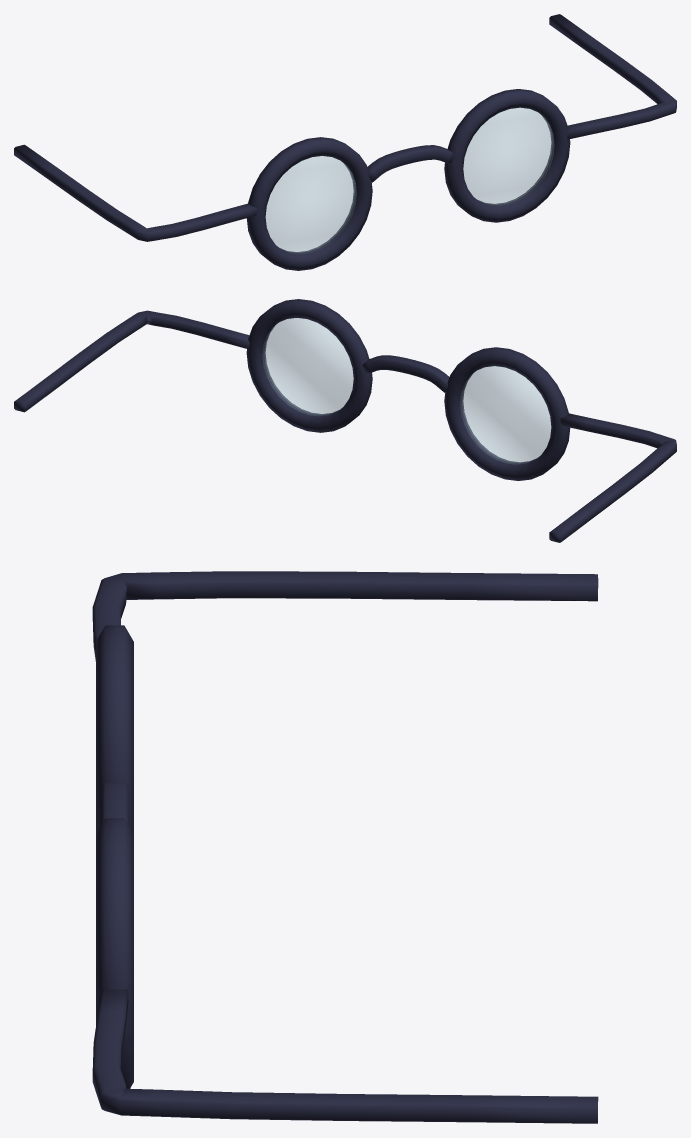
Rendered from round_glasses-pig.glb.
3 views of the same model, one above another, from view 1: azimuth 30°, elevation 25°; view 2: azimuth 150°, elevation 25°; view 3: azimuth 270°, elevation 25° (orthographic). The views are drawn at different scales.
Parts seen in each view (by area): view 1: lens.001, lens, rim, rim.001, temple.001, temple, bridge; view 2: lens.001, lens, rim.001, rim, temple, temple.001, bridge; view 3: temple, temple.001, rim, rim.001, bridge.
Part boxes in pixels (<box>): lens.001: <box>265,156,356,254</box>; lens: <box>463,107,554,205</box>; rim: <box>444,89,570,222</box>; rim.001: <box>246,137,372,270</box>; temple.001: <box>14,144,257,241</box>; temple: <box>549,14,676,139</box>; bridge: <box>367,145,454,182</box>; lens.001: <box>460,366,551,464</box>; lens: <box>262,318,353,415</box>; rim.001: <box>444,347,570,480</box>; rim: <box>246,299,372,432</box>; temple: <box>14,310,249,412</box>; temple.001: <box>549,413,676,542</box>; bridge: <box>362,355,449,392</box>; temple: <box>92,989,598,1123</box>; temple.001: <box>92,571,598,661</box>; rim: <box>96,818,133,1088</box>; rim.001: <box>96,625,133,834</box>; bridge: <box>102,781,127,823</box>.
Bounding box in the file's own units: 1.33 × 0.2946 × 0.5314.
